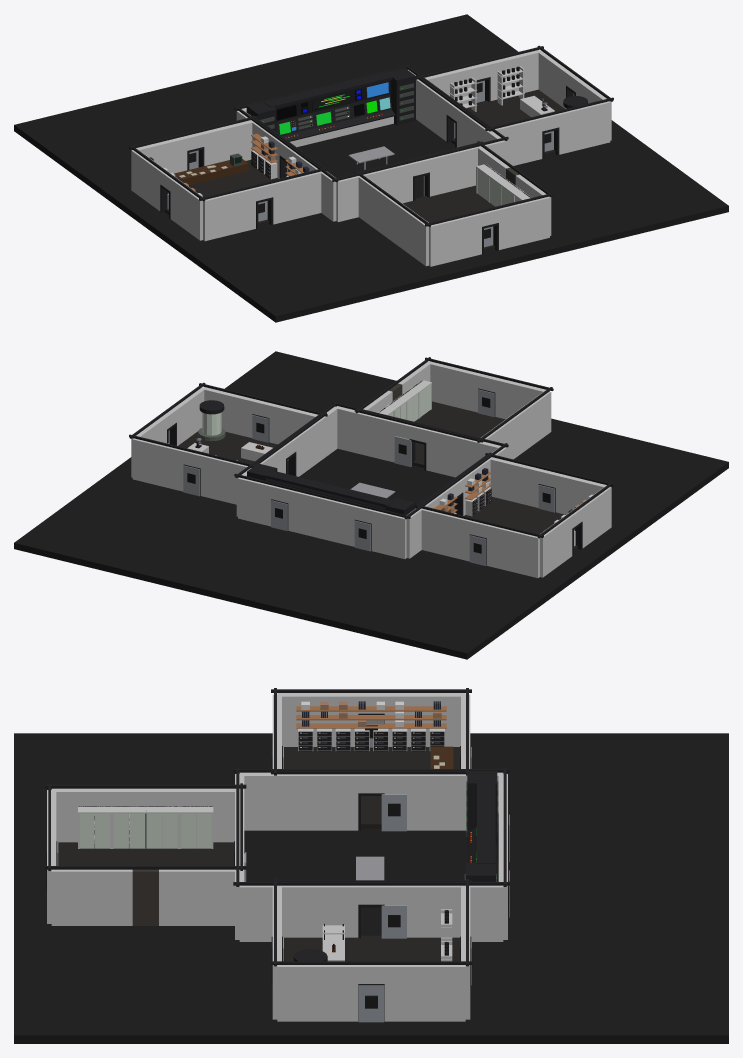
The model's file is labfacility.obj.
3 views of the same model, one above another, from view 1: azimuth 30°, elevation 25°; view 2: azimuth 150°, elevation 25°; view 3: azimuth 270°, elevation 25° (orthographic). The views are drawn at different scales.
Visible parts, largest first — view 1: FoundationPad, Files_S_L, StorB_S_L, LabA_S_R, StorB_S_R, Files_S_R, Floor_0_-12, Shared_CB_R, Files_N_R, LabA_S_L, Floor_12_0, StorB_W_B (+21 smaller); view 2: FoundationPad, Files_N_L, LabA_N_R, Files_N_R, Floor_0_-12, Files_S_R, Shared_CB_L, StorB_S_R, Floor_-12_0, Shared_CB_R, LabA_N_L, Central_N1_L (+19 smaller); view 3: FoundationPad, Shared_CF_B, LabA_E_B, LabA_E_T_wall, StorB_E_B, StorB_E_T_wall, Shared_CF_T_wall, Shared_CA_B, Floor_-12_0, Floor_0_-12, Floor_12_0, Shared_CA_T_wall (+25 smaller).
Part boxes in pixels (x1,y1,x2,y2): FoundationPad: (14,14,728,322); Files_S_L: (203,188,255,241); StorB_S_L: (429,213,481,266); LabA_S_R: (558,101,610,154); StorB_S_R: (497,197,549,249); Files_S_R: (272,172,321,224); Floor_0_-12: (403,185,494,251); Shared_CB_R: (428,146,480,196); Files_N_R: (201,120,253,165); LabA_S_L: (491,118,542,165); Floor_12_0: (451,89,564,156); StorB_W_B: (396,203,428,266); FoundationPad: (14,351,728,659); Files_N_L: (487,525,539,578); LabA_N_R: (132,438,184,491); Files_N_R: (421,509,470,561); Floor_0_-12: (413,401,505,467); Files_S_R: (489,457,541,507); Shared_CB_L: (426,429,477,477); StorB_S_R: (427,361,480,412); Floor_-12_0: (464,497,577,551); Shared_CB_R: (358,413,410,462); LabA_N_L: (200,455,247,504); Central_N1_L: (371,510,406,558); FoundationPad: (14,733,728,1043); Shared_CF_B: (277,774,358,830); LabA_E_B: (277,965,358,1021); LabA_E_T_wall: (384,965,465,1021); StorB_E_B: (51,869,132,925); StorB_E_T_wall: (159,869,239,925); Shared_CF_T_wall: (384,774,465,830); Shared_CA_B: (282,885,358,937); Floor_-12_0: (284,747,459,828); Floor_0_-12: (58,842,233,865); Floor_12_0: (284,935,459,961); Shared_CA_T_wall: (384,885,460,937).
Size of the model in its own units: 38 by 4.14 by 38.
